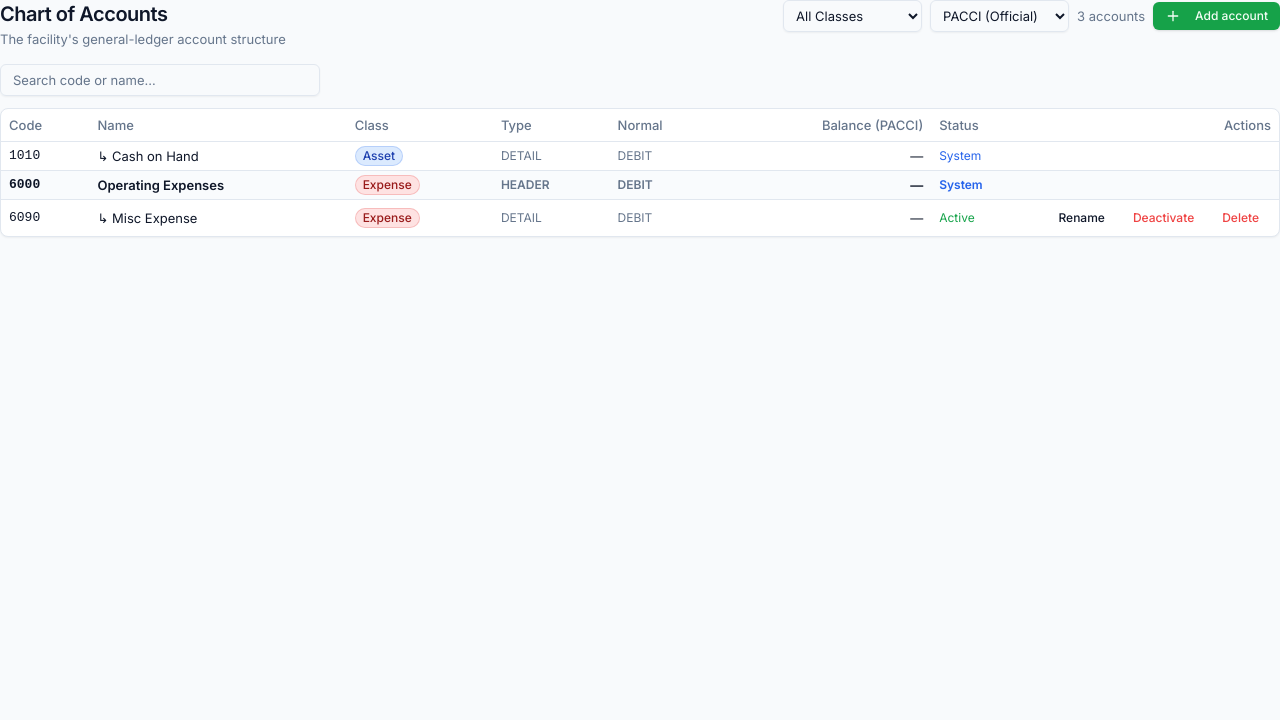
Test: ChartOfAccountsPage — owner management › preselects the only legal section rather than asking — cost of service has exactly one
The width and height of the screenshot is (1280, 720).
Expected: the text "↳ Misc Expense" is shown, [90,199,347,236]
Click the button "Add account" at (1217, 16), box [1153,2,1279,30]
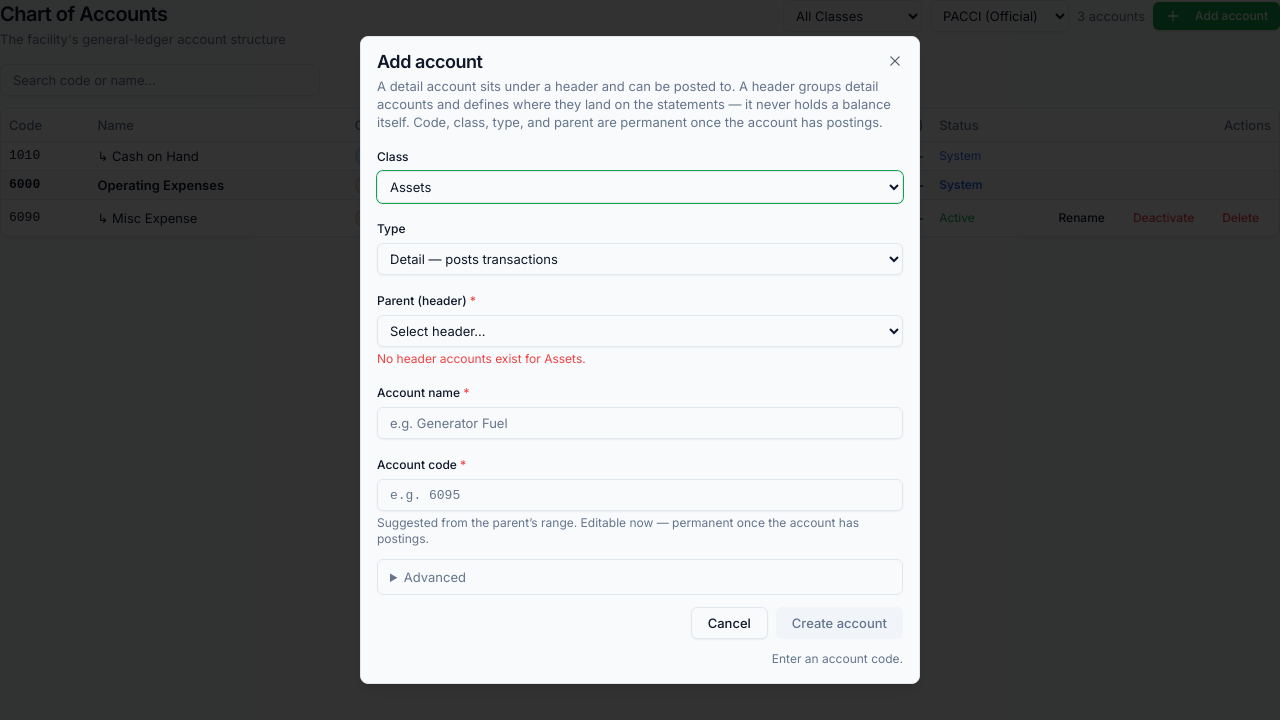
Select "Cost of Service" in the dropdown labelled "Class" at (640, 187), box [377,171,903,203]
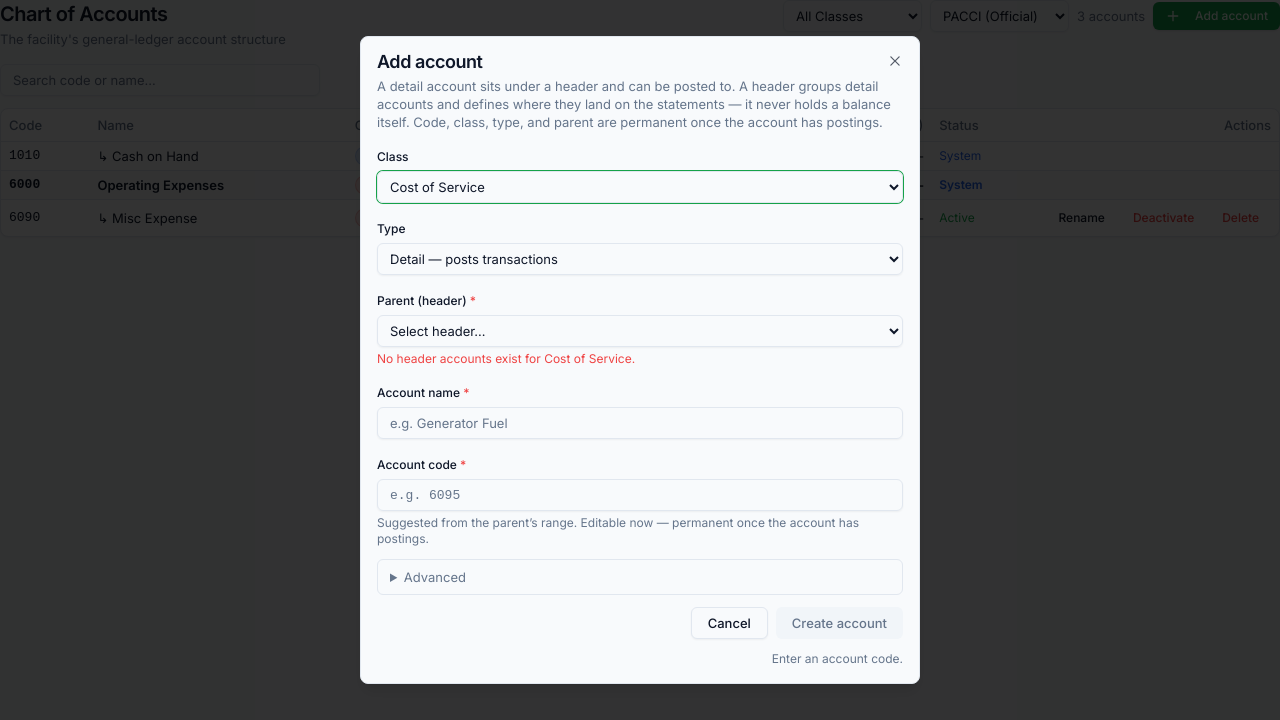
Select "Header — groups detail accounts" in the dropdown labelled "Type" at (640, 259), box [377,243,903,275]
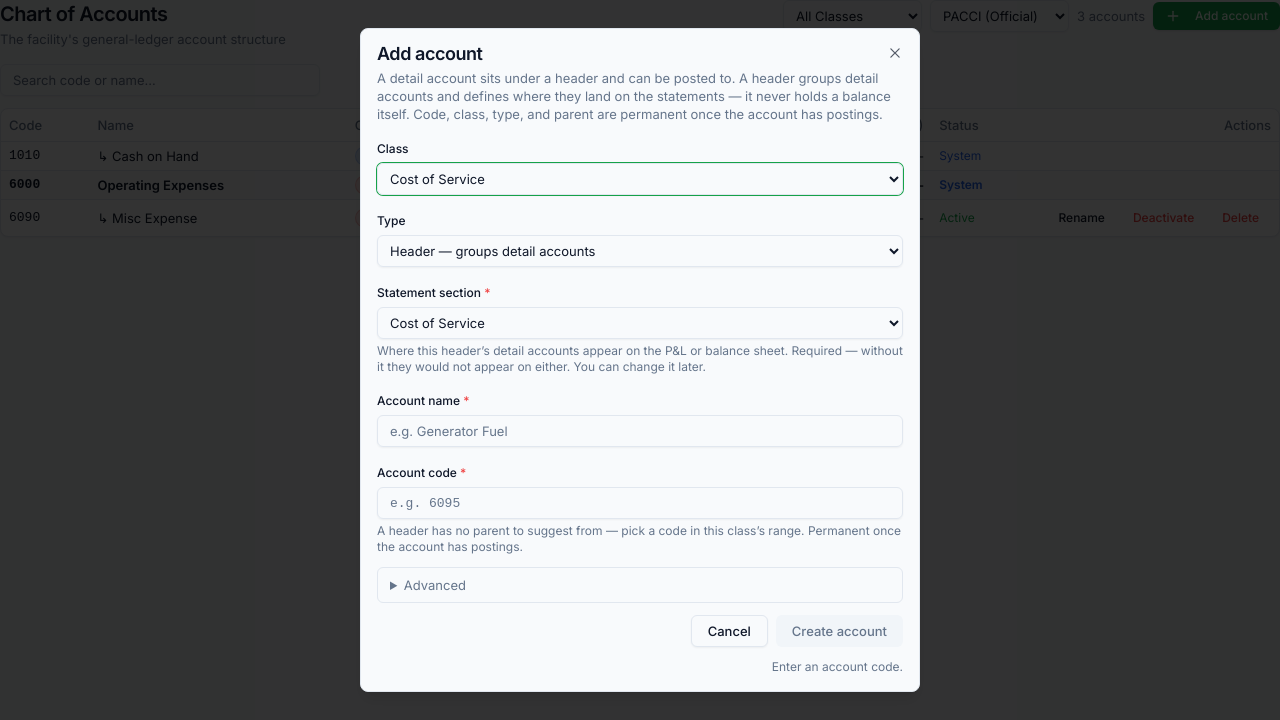
Type "Direct Costs (custom)" into the field labelled "Account name *" at (640, 431), box [377,415,903,447]
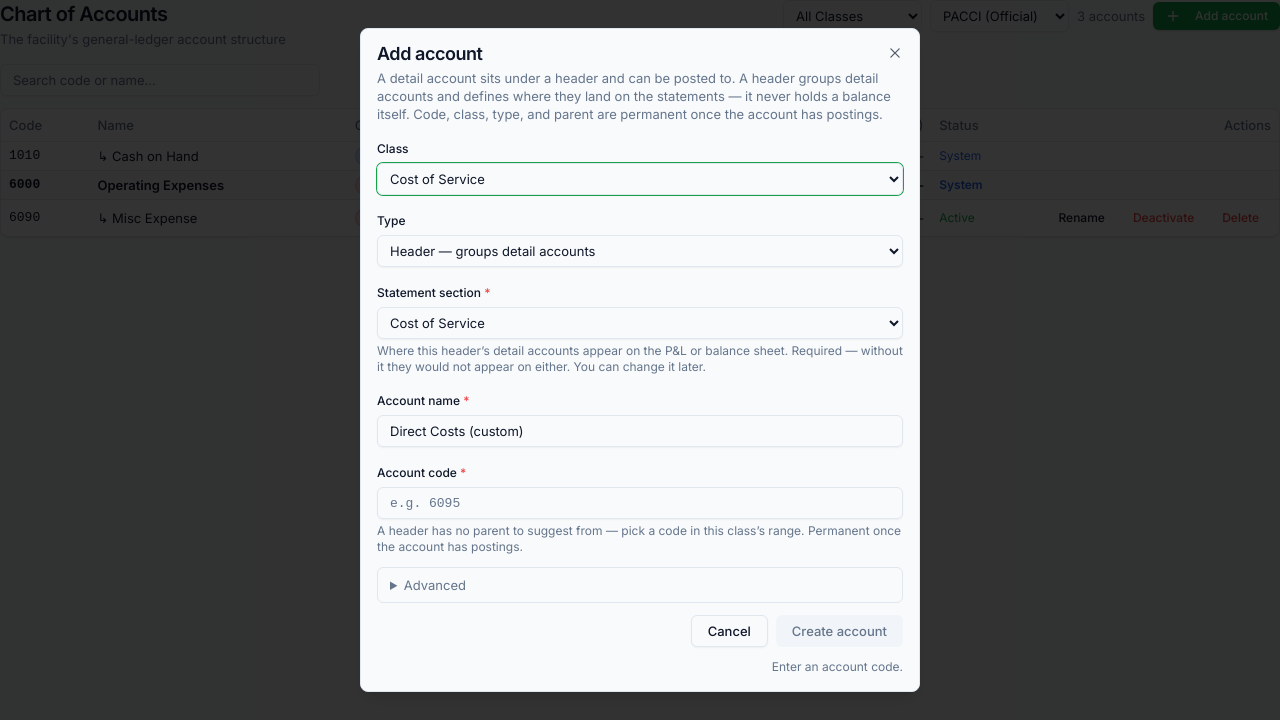
Type "5500" into the field labelled "Account code *" at (640, 503), box [377,487,903,519]
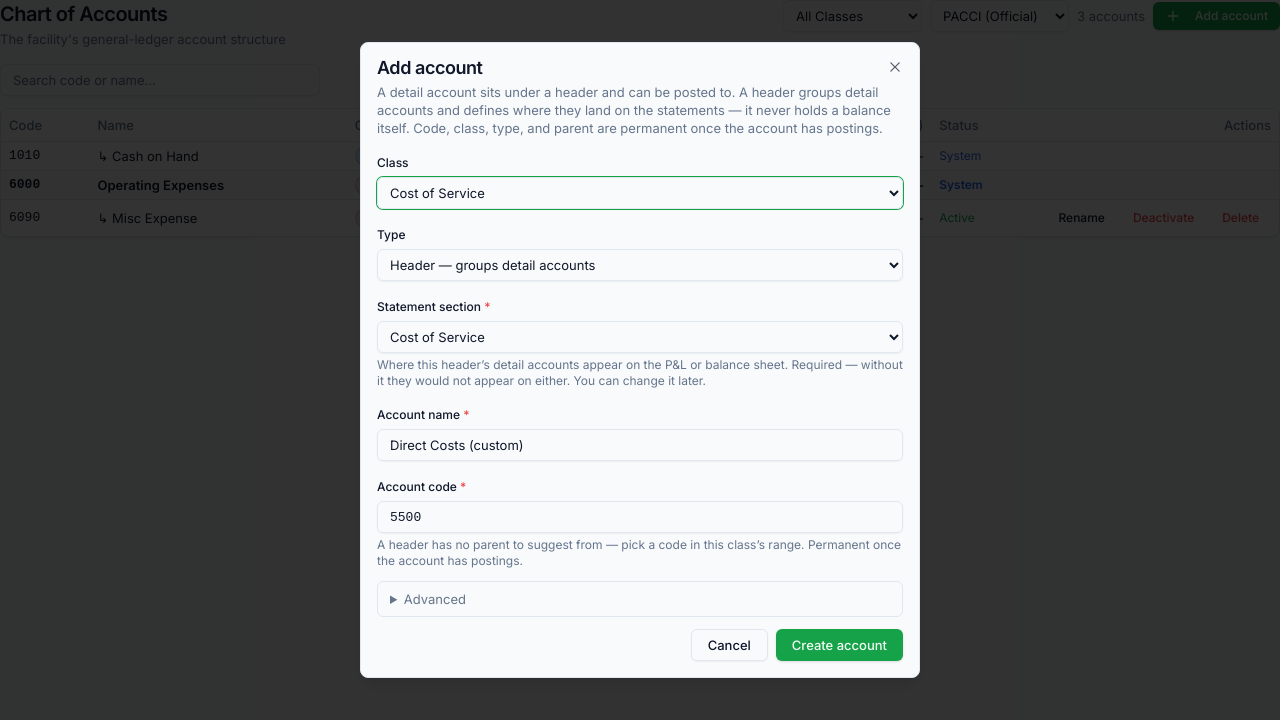
Expected: the dropdown labelled "Statement section *" shows "Cost of Service", [377,321,903,353]
Expected: the button "Create account" is enabled, [776,629,903,661]
